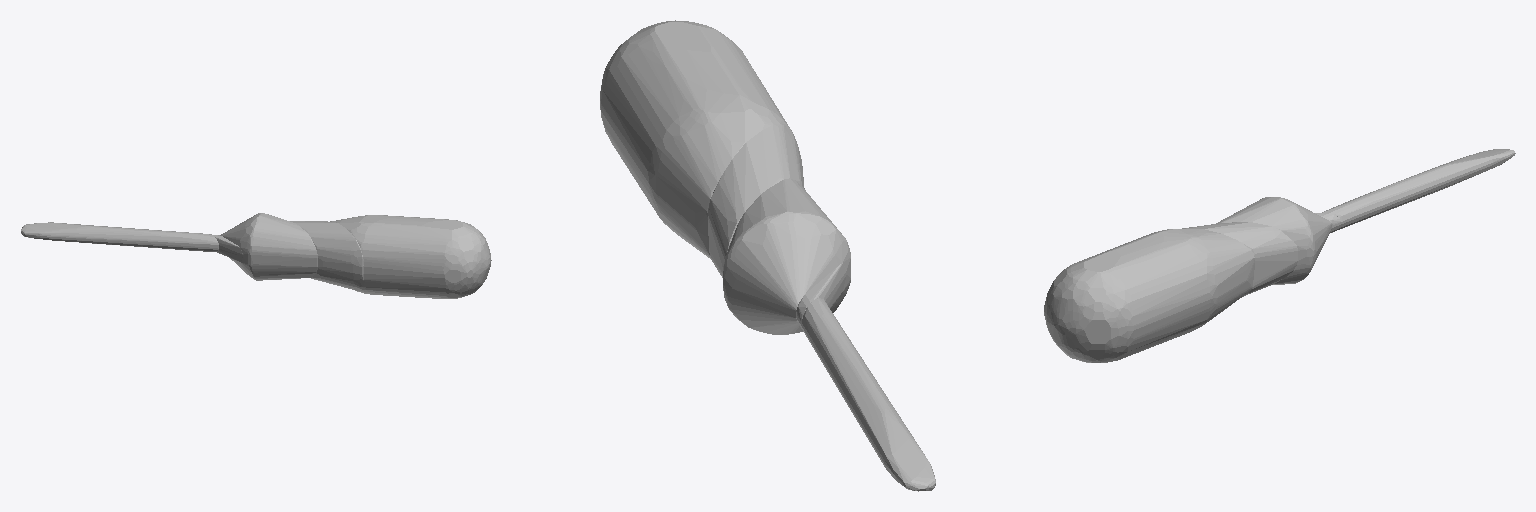
URDF robot description (root):
<robot name="root">
  <link name="link_coacd_convex_piece_0">
    <inertial>
      <origin xyz="0 0 0" rpy="0 0 0"/>
      <inertia ixx="-2.67E-04" ixy="-3.78E-04" ixz="-6.41E-07" iyy="-3.95E-04" iyz="1.46E-07" izz="-7.08E-04"/>
    </inertial>
    <visual>
      <origin xyz="0 0 0" rpy="0 0 0"/>
      <geometry>
        <mesh filename="coacd_convex_piece_0.obj" scale="1.0000E+00 1.0000E+00 1.0000E+00"/>
      </geometry>
      <material name="">
        <color rgba="7.50E-01 7.50E-01 7.50E-01 1"/>
      </material>
    </visual>
    <collision>
      <origin xyz="0 0 0" rpy="0 0 0"/>
      <geometry>
        <mesh filename="coacd_convex_piece_0.obj" scale="1.0000E+00 1.0000E+00 1.0000E+00"/>
      </geometry>
    </collision>
  </link>
  <link name="link_coacd_convex_piece_1">
    <inertial>
      <origin xyz="0 0 0" rpy="0 0 0"/>
      <inertia ixx="-7.44E-04" ixy="-8.68E-04" ixz="-2.19E-05" iyy="-8.53E-04" iyz="1.78E-05" izz="-1.67E-03"/>
    </inertial>
    <visual>
      <origin xyz="0 0 0" rpy="0 0 0"/>
      <geometry>
        <mesh filename="coacd_convex_piece_1.obj" scale="1.0000E+00 1.0000E+00 1.0000E+00"/>
      </geometry>
      <material name="">
        <color rgba="7.50E-01 7.50E-01 7.50E-01 1"/>
      </material>
    </visual>
    <collision>
      <origin xyz="0 0 0" rpy="0 0 0"/>
      <geometry>
        <mesh filename="coacd_convex_piece_1.obj" scale="1.0000E+00 1.0000E+00 1.0000E+00"/>
      </geometry>
    </collision>
  </link>
  <joint name="link_coacd_convex_piece_1_joint" type="fixed">
    <origin xyz="0 0 0" rpy="0 0 0"/>
    <parent link="link_coacd_convex_piece_0"/>
    <child link="link_coacd_convex_piece_1"/>
  </joint>
  <link name="link_coacd_convex_piece_2">
    <inertial>
      <origin xyz="0 0 0" rpy="0 0 0"/>
      <inertia ixx="3.60E-03" ixy="3.41E-03" ixz="-9.03E-05" iyy="3.99E-03" iyz="8.85E-05" izz="7.21E-03"/>
    </inertial>
    <visual>
      <origin xyz="0 0 0" rpy="0 0 0"/>
      <geometry>
        <mesh filename="coacd_convex_piece_2.obj" scale="1.0000E+00 1.0000E+00 1.0000E+00"/>
      </geometry>
      <material name="">
        <color rgba="7.50E-01 7.50E-01 7.50E-01 1"/>
      </material>
    </visual>
    <collision>
      <origin xyz="0 0 0" rpy="0 0 0"/>
      <geometry>
        <mesh filename="coacd_convex_piece_2.obj" scale="1.0000E+00 1.0000E+00 1.0000E+00"/>
      </geometry>
    </collision>
  </link>
  <joint name="link_coacd_convex_piece_2_joint" type="fixed">
    <origin xyz="0 0 0" rpy="0 0 0"/>
    <parent link="link_coacd_convex_piece_1"/>
    <child link="link_coacd_convex_piece_2"/>
  </joint>
  <link name="link_coacd_convex_piece_3">
    <inertial>
      <origin xyz="0 0 0" rpy="0 0 0"/>
      <inertia ixx="-1.61E-05" ixy="-1.69E-05" ixz="-1.24E-06" iyy="-1.66E-05" iyz="1.03E-06" izz="-3.31E-05"/>
    </inertial>
    <visual>
      <origin xyz="0 0 0" rpy="0 0 0"/>
      <geometry>
        <mesh filename="coacd_convex_piece_3.obj" scale="1.0000E+00 1.0000E+00 1.0000E+00"/>
      </geometry>
      <material name="">
        <color rgba="7.50E-01 7.50E-01 7.50E-01 1"/>
      </material>
    </visual>
    <collision>
      <origin xyz="0 0 0" rpy="0 0 0"/>
      <geometry>
        <mesh filename="coacd_convex_piece_3.obj" scale="1.0000E+00 1.0000E+00 1.0000E+00"/>
      </geometry>
    </collision>
  </link>
  <joint name="link_coacd_convex_piece_3_joint" type="fixed">
    <origin xyz="0 0 0" rpy="0 0 0"/>
    <parent link="link_coacd_convex_piece_2"/>
    <child link="link_coacd_convex_piece_3"/>
  </joint>
  <link name="link_coacd_convex_piece_4">
    <inertial>
      <origin xyz="0 0 0" rpy="0 0 0"/>
      <inertia ixx="2.06E-04" ixy="2.04E-04" ixz="-5.24E-05" iyy="2.16E-04" iyz="5.06E-05" izz="4.11E-04"/>
    </inertial>
    <visual>
      <origin xyz="0 0 0" rpy="0 0 0"/>
      <geometry>
        <mesh filename="coacd_convex_piece_4.obj" scale="1.0000E+00 1.0000E+00 1.0000E+00"/>
      </geometry>
      <material name="">
        <color rgba="7.50E-01 7.50E-01 7.50E-01 1"/>
      </material>
    </visual>
    <collision>
      <origin xyz="0 0 0" rpy="0 0 0"/>
      <geometry>
        <mesh filename="coacd_convex_piece_4.obj" scale="1.0000E+00 1.0000E+00 1.0000E+00"/>
      </geometry>
    </collision>
  </link>
  <joint name="link_coacd_convex_piece_4_joint" type="fixed">
    <origin xyz="0 0 0" rpy="0 0 0"/>
    <parent link="link_coacd_convex_piece_3"/>
    <child link="link_coacd_convex_piece_4"/>
  </joint>
</robot>

--- Render facts (derived) ---
3 views of the same robot in one strip: view 1: azimuth 30°, elevation 25°; view 2: azimuth 150°, elevation 25°; view 3: azimuth 270°, elevation 25° (orthographic).
Model root with 5 links and 4 joints (4 fixed), rooted at link_coacd_convex_piece_0, posed every joint at zero.
Links seen in each view (by area): view 1: link_coacd_convex_piece_2, link_coacd_convex_piece_1, link_coacd_convex_piece_4, link_coacd_convex_piece_0; view 2: link_coacd_convex_piece_2, link_coacd_convex_piece_1, link_coacd_convex_piece_4, link_coacd_convex_piece_0, link_coacd_convex_piece_3; view 3: link_coacd_convex_piece_2, link_coacd_convex_piece_4, link_coacd_convex_piece_1, link_coacd_convex_piece_0.
Link boxes in pixels (box(x1,y1,x2,y2)): link_coacd_convex_piece_2: box(330, 215, 491, 298); link_coacd_convex_piece_1: box(220, 213, 317, 280); link_coacd_convex_piece_4: box(21, 222, 218, 251); link_coacd_convex_piece_0: box(290, 221, 363, 289); link_coacd_convex_piece_2: box(600, 20, 789, 258); link_coacd_convex_piece_1: box(723, 178, 850, 334); link_coacd_convex_piece_4: box(801, 298, 935, 491); link_coacd_convex_piece_0: box(708, 124, 804, 277); link_coacd_convex_piece_3: box(796, 263, 846, 329); link_coacd_convex_piece_2: box(1044, 229, 1254, 362); link_coacd_convex_piece_4: box(1322, 149, 1515, 229); link_coacd_convex_piece_1: box(1216, 197, 1331, 284); link_coacd_convex_piece_0: box(1182, 222, 1297, 296).
Size in the robot's own frame: 1.42 by 1.39 by 0.3127 metres.
5 mesh visuals loaded from 5 distinct referenced files (5 OBJ).